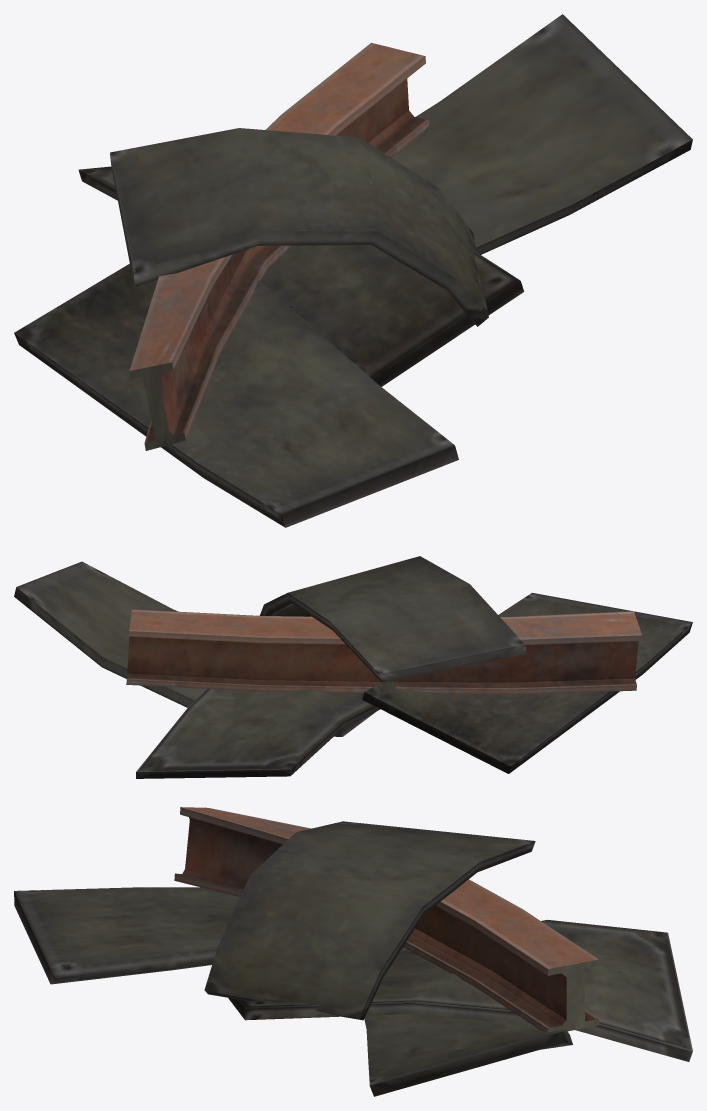
Rendered from communcations_dome_debris01.dae.
The picture shows the model from 3 angles, top to bottom: view 1: azimuth 30°, elevation 25°; view 2: azimuth 150°, elevation 25°; view 3: azimuth 270°, elevation 25°; orthographic projection. The views are drawn at different scales.
Visible parts, largest first — view 1: polySurface704; view 2: polySurface704; view 3: polySurface704.
Boxes of the visible parts, left/top/right/bottom form: polySurface704: left=14, top=14, right=692, bottom=527; polySurface704: left=14, top=556, right=692, bottom=778; polySurface704: left=14, top=807, right=692, bottom=1096.
Size of the model in its own units: 2.18 by 0.531 by 2.22.
